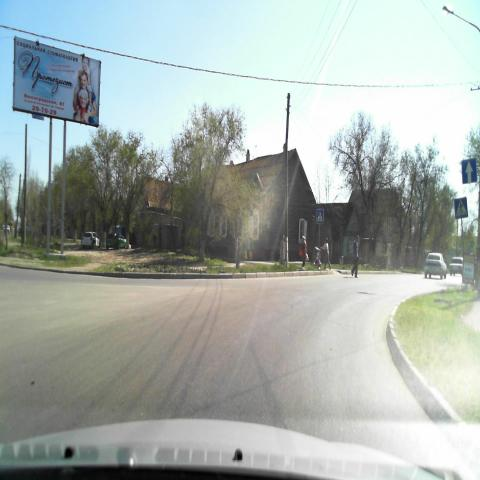5_19_1: (316, 208, 326, 226)
